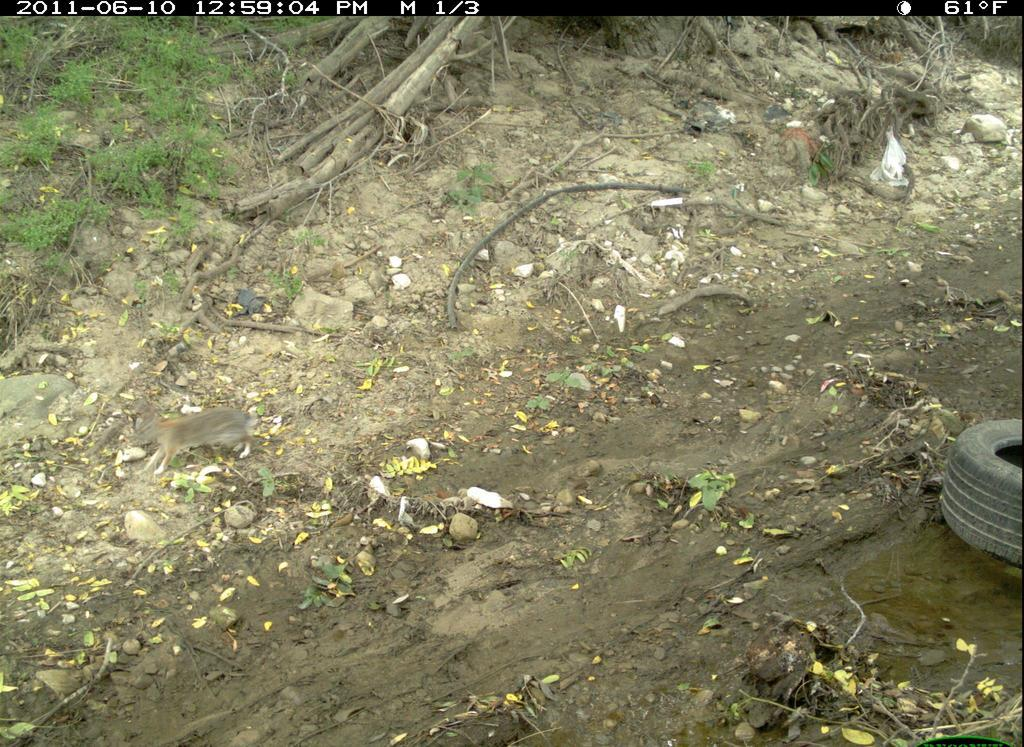rabbit: (131, 390, 257, 482)
